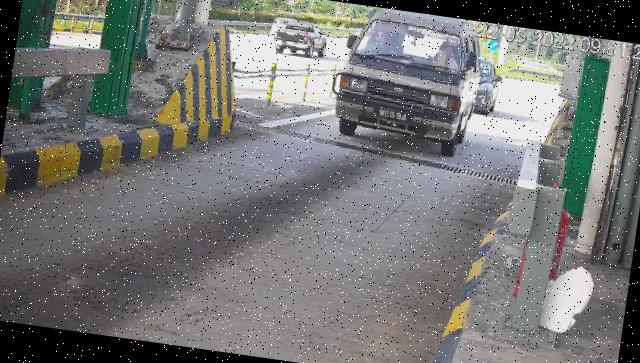License_Plate: (372, 106, 416, 127)
van: (332, 5, 490, 161)
